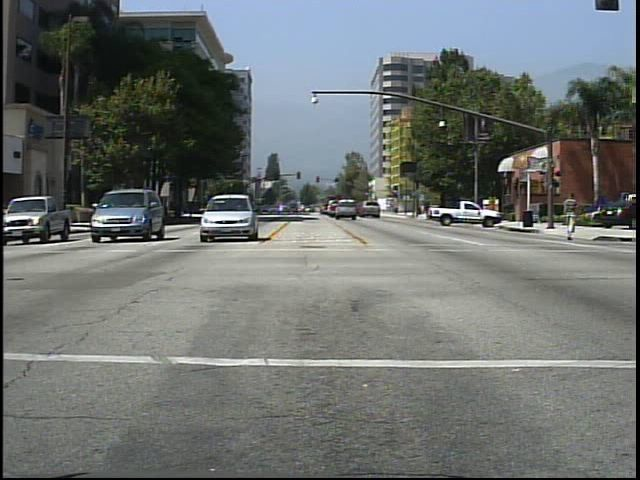person: (561, 190, 582, 242)
